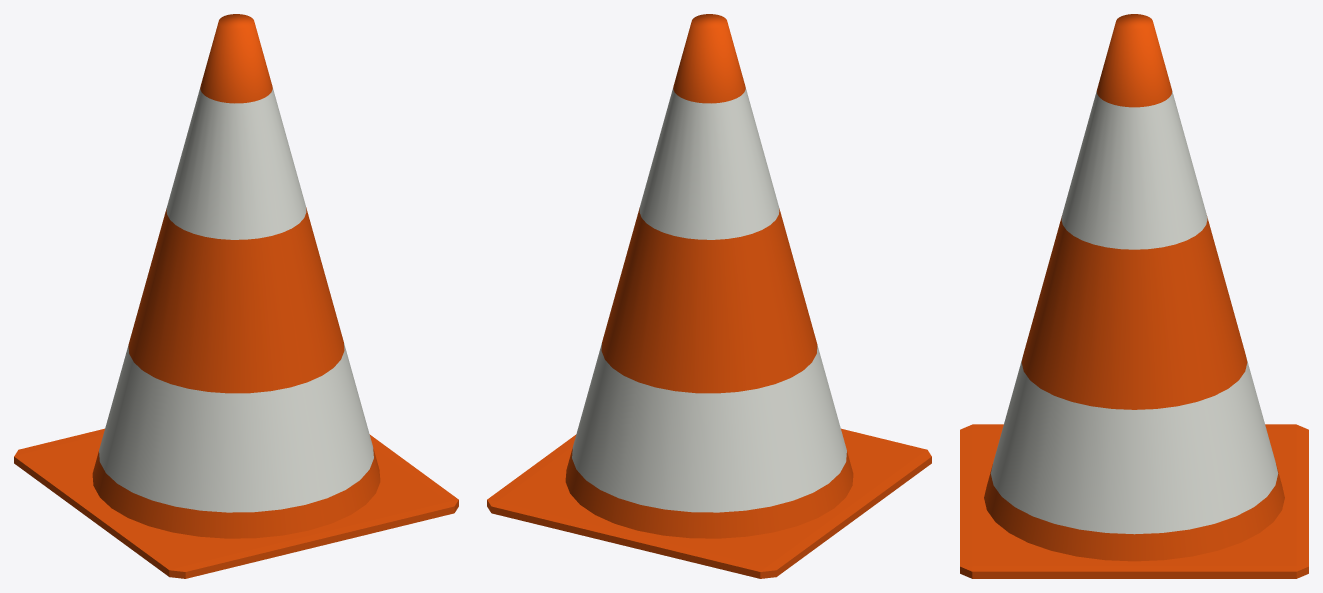
File: TrafficCone.fbx
The picture shows the model from 3 angles, left to right: view 1: azimuth 30°, elevation 25°; view 2: azimuth 150°, elevation 25°; view 3: azimuth 270°, elevation 25°; orthographic projection. The views are drawn at different scales.
Parts seen in each view (by area): view 1: Cylinder; view 2: Cylinder; view 3: Cylinder.
Part boxes in pixels (<box>): Cylinder: <box>14,14,458,578</box>; Cylinder: <box>487,14,931,578</box>; Cylinder: <box>960,14,1308,578</box>.
Size of the model in its own units: 0.5778 by 0.5778 by 0.8846.
